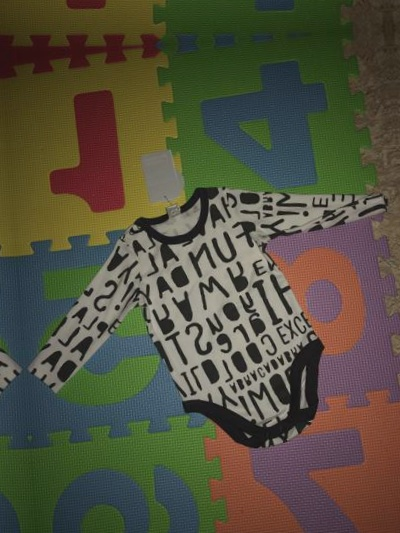Body: (13, 143, 400, 467), (0, 171, 28, 495)
